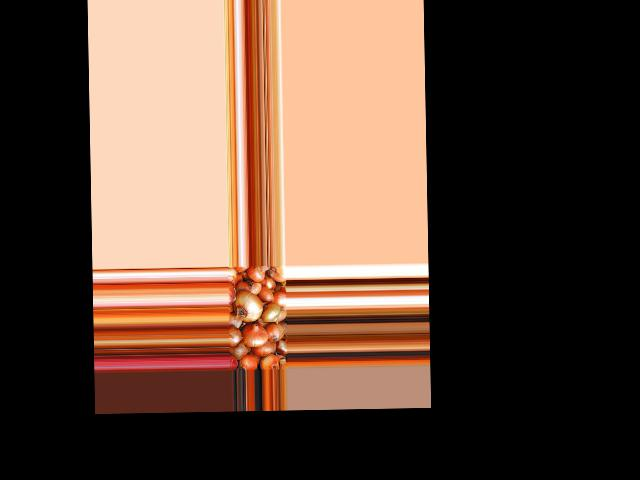onion: (264, 323, 283, 342)
